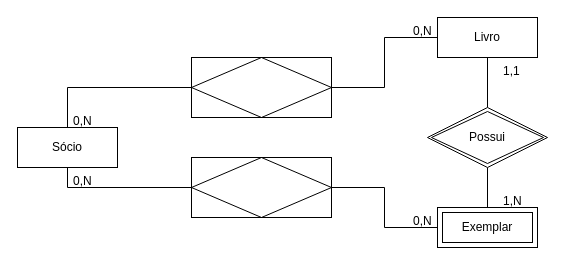
Some shapes in this 565 by 265 pixel diagram are drawn without their labels. Here are the shapes that lost their labels. From the top down, the box of each, then its label:
(190, 56, 332, 118): Reserva.req
(190, 156, 332, 218): empresta.req
